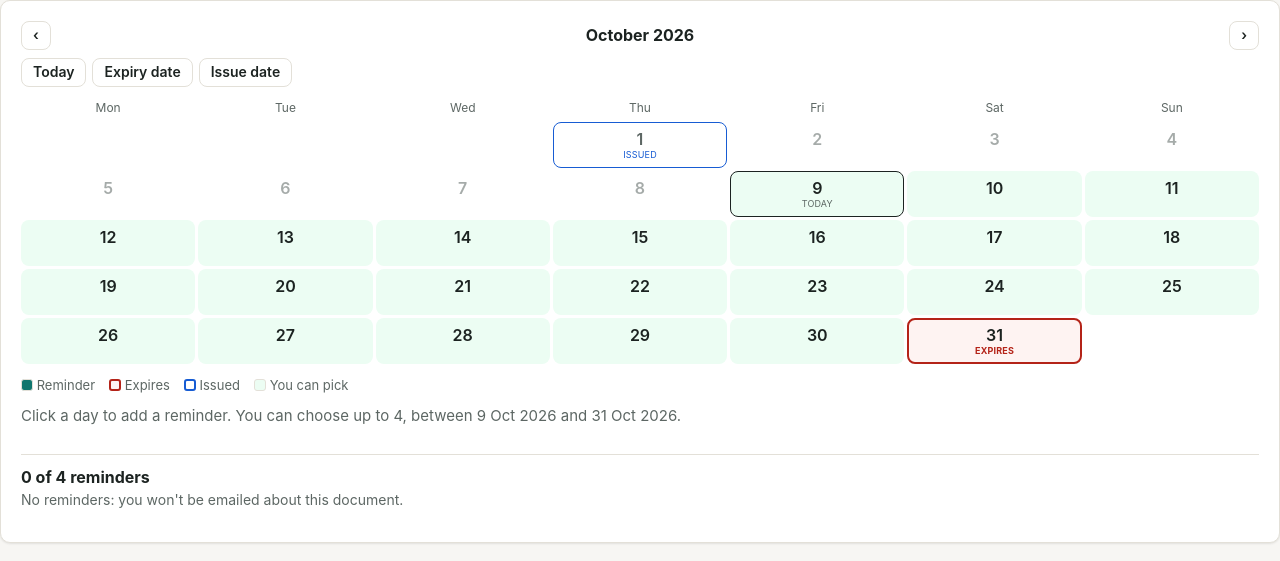
Scenario: ReminderCalendar: the error messages › refuses a day before the document was issued
The image size is (1280, 561).
Click the button named "Previous month" at (36, 35), box x1=21 y1=21 x2=51 y2=50
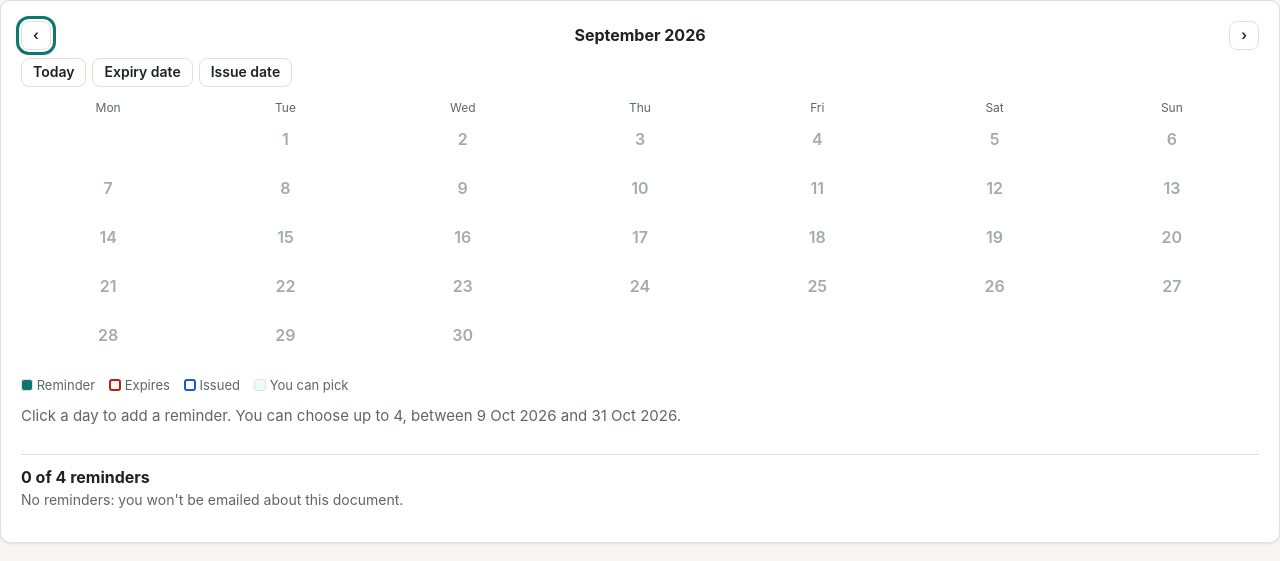
Click the button named "Sunday, 20 September 2026" at (1172, 243), box x1=1085 y1=220 x2=1259 y2=266
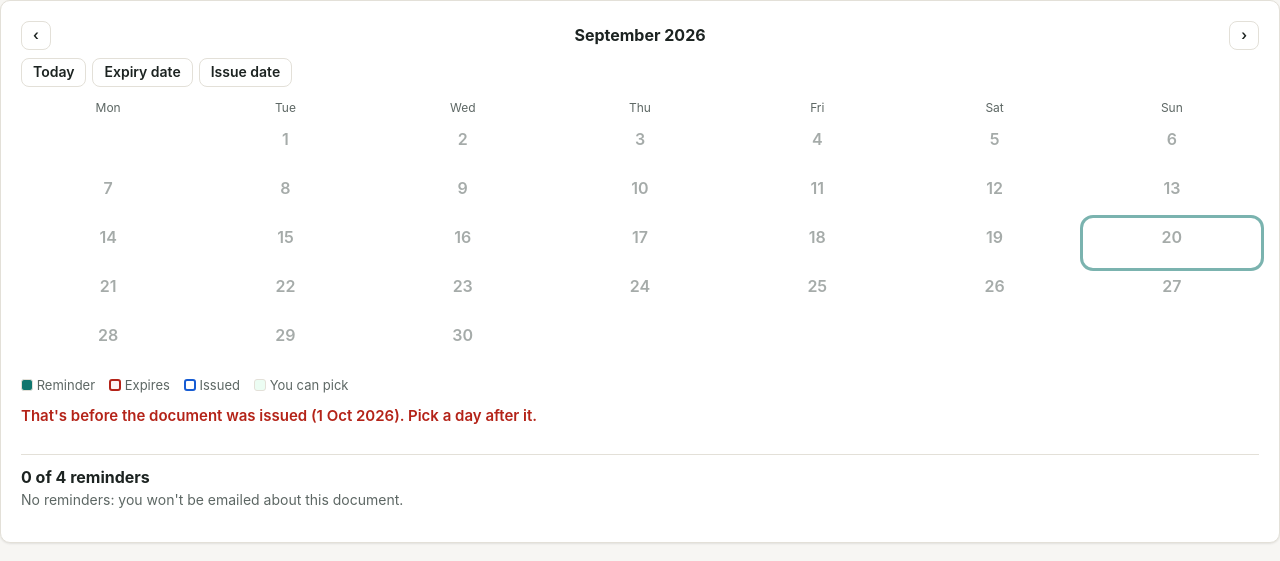
Now the message reads "That's before the document was issued (1 Oct 2026). Pick a day after it.", box x1=21 y1=406 x2=537 y2=425
